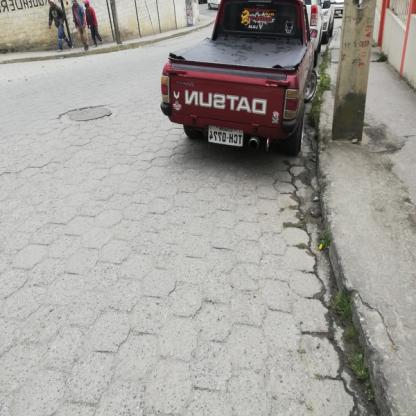Placa: (204, 124, 247, 150)
